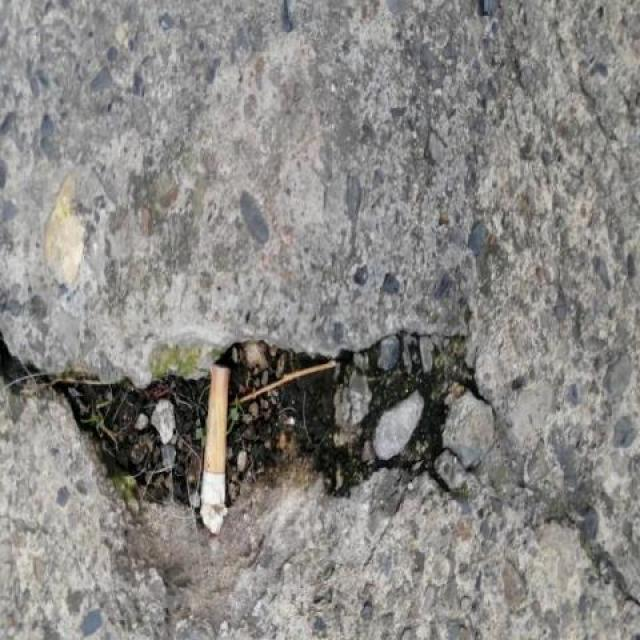non-organic waste: (193, 358, 238, 510)
